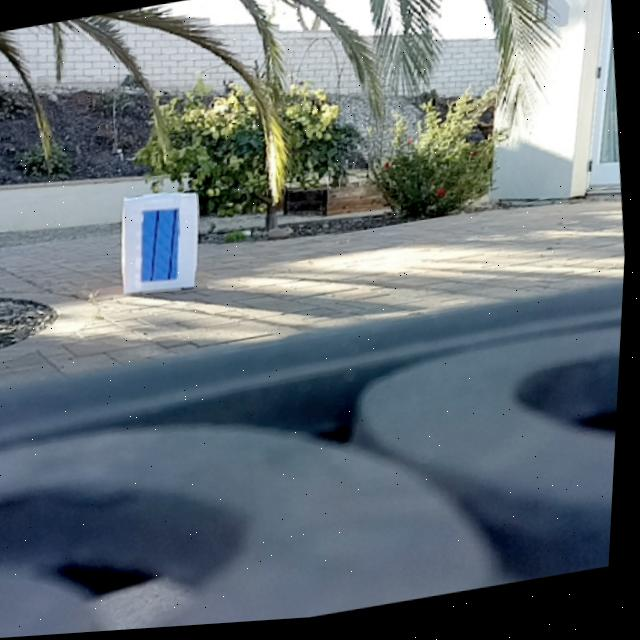led: (137, 208, 188, 286)
